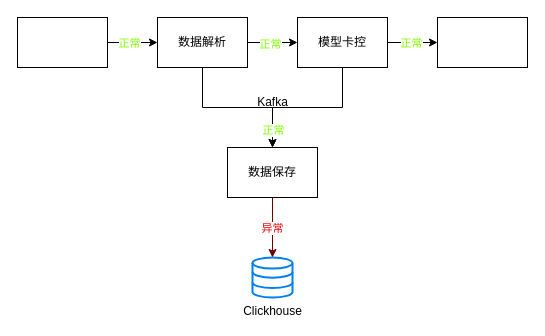
The diagram is 545 pixels wide and 336 high, and some of its shapes have lost their labels. Here are the shapes that lost their labels. From the top down, the centre of each, then its label:
the point at 62,42: DCP采集平台
the point at 482,42: 告警触发 （email/hold...）
